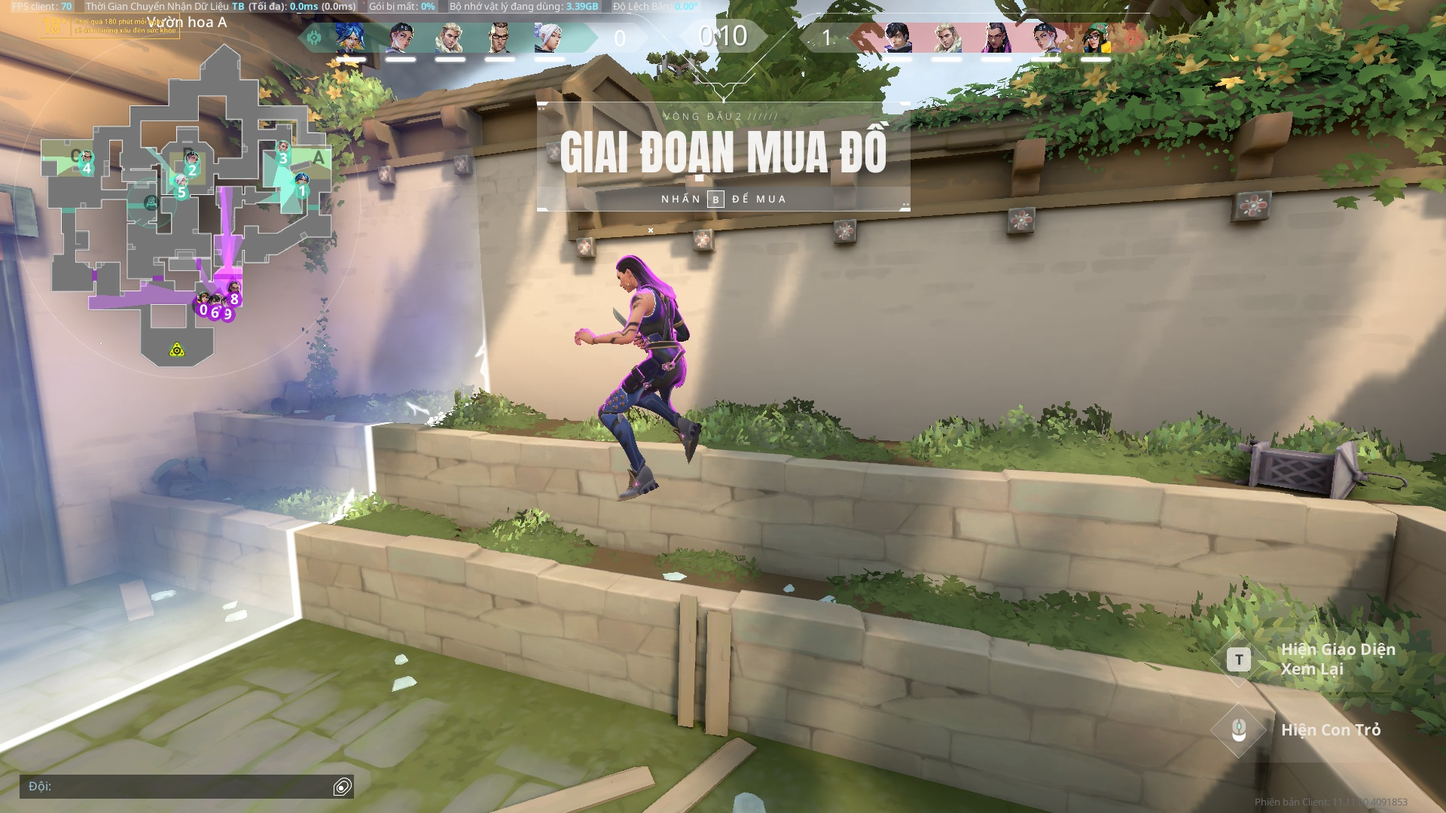body: (624, 285, 691, 347)
head: (615, 256, 650, 289)
